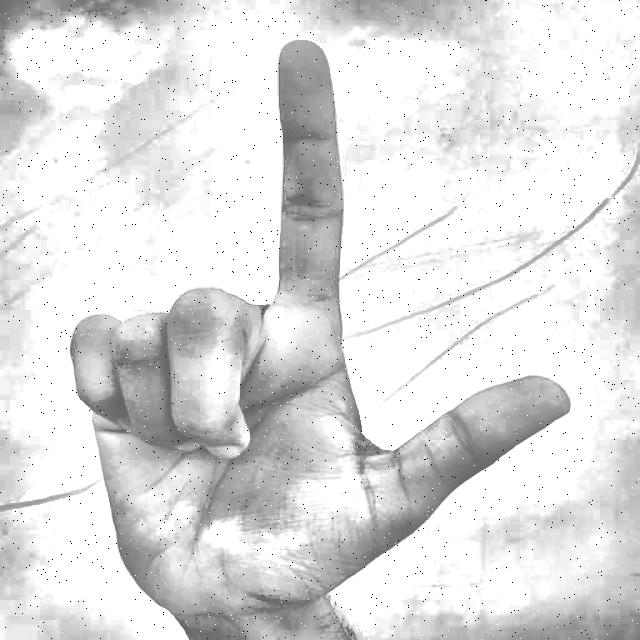La: (41, 30, 582, 640)
